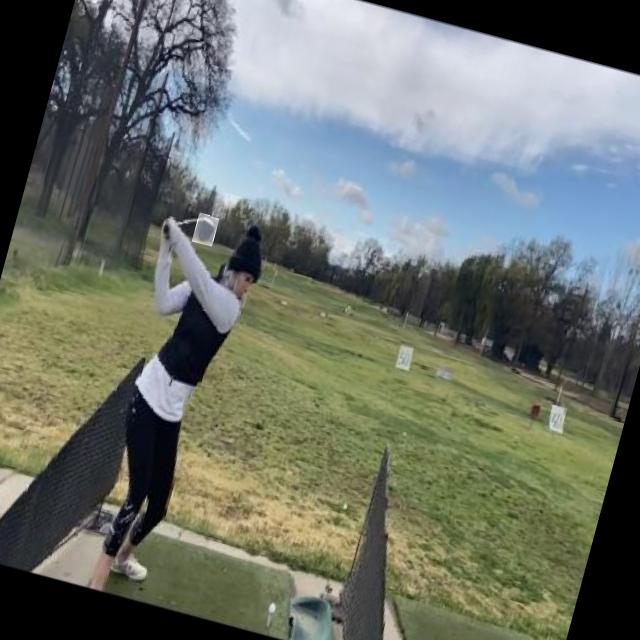club head: (191, 212, 219, 246)
